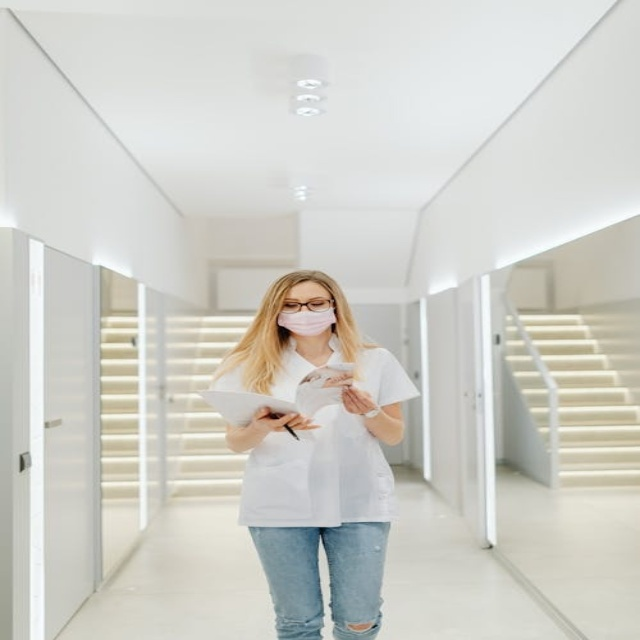Gafas: (278, 298, 335, 313)
Mascara: (276, 307, 336, 336)
Sin_guantes: (240, 404, 313, 439), (338, 384, 381, 417)
